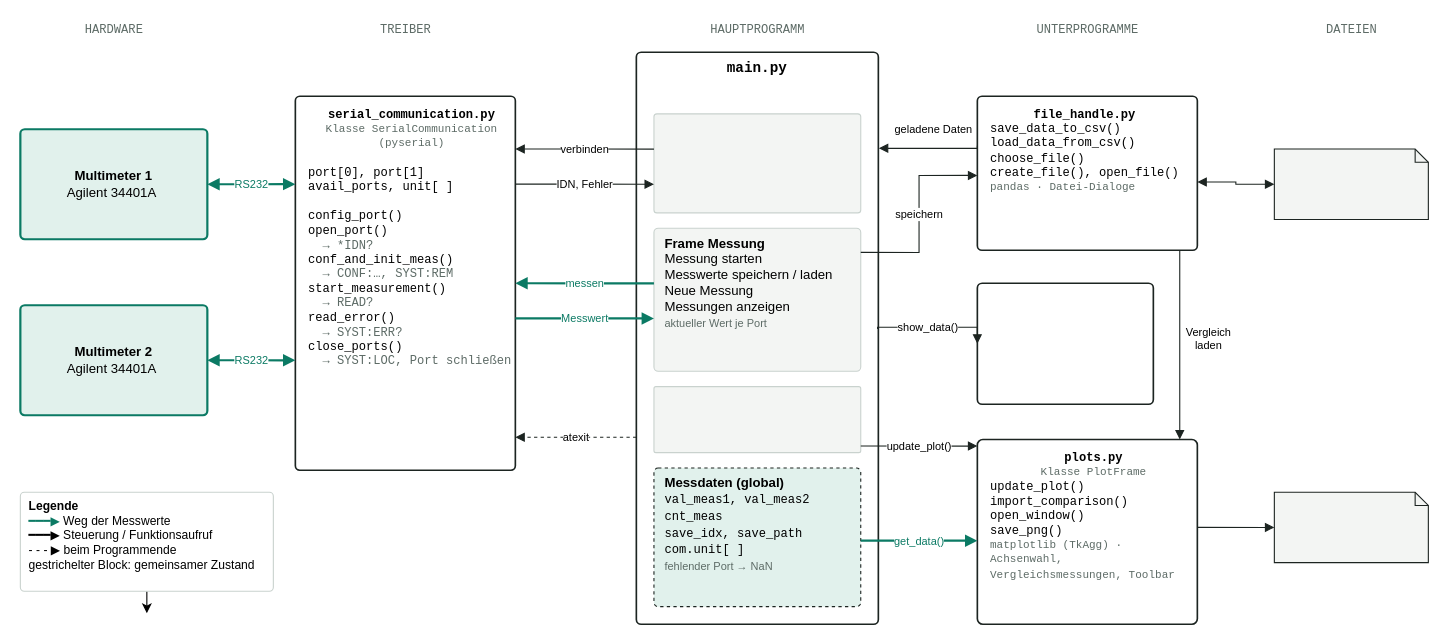
Some shapes in this 1448 by 644 pixel diagram are drawn without their labels. The shapes that lost their labels are listed below. From the top down, each one's centre as x and y in pixels, then its label:
pixel 757 163: Frame Verbindung Ports wählen · Verbinden Messart je Port Fehler lesen
pixel 1350 183: CSV-Datei Messung_JJJJMMTT.csv
pixel 1065 343: popup.py Fenster mit Tabelle ttk.Treeview
pixel 757 419: Frame Diagramm enthält PlotFrame
pixel 1350 527: PNG-Datei Diagramm_JJJJMMTT.png
